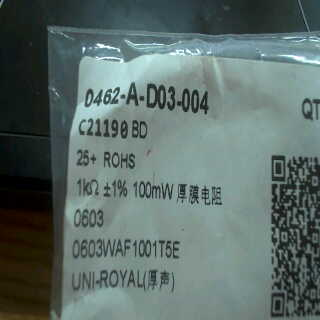1kR: (73, 174, 101, 201)
